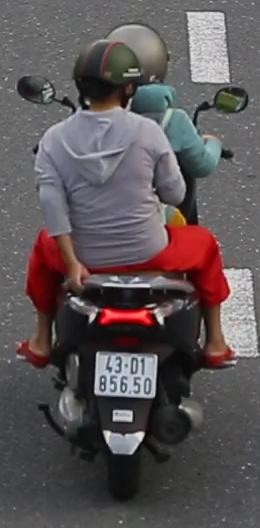LP: (90, 345, 162, 403)
helmet: (71, 36, 139, 124), (104, 15, 172, 98)
